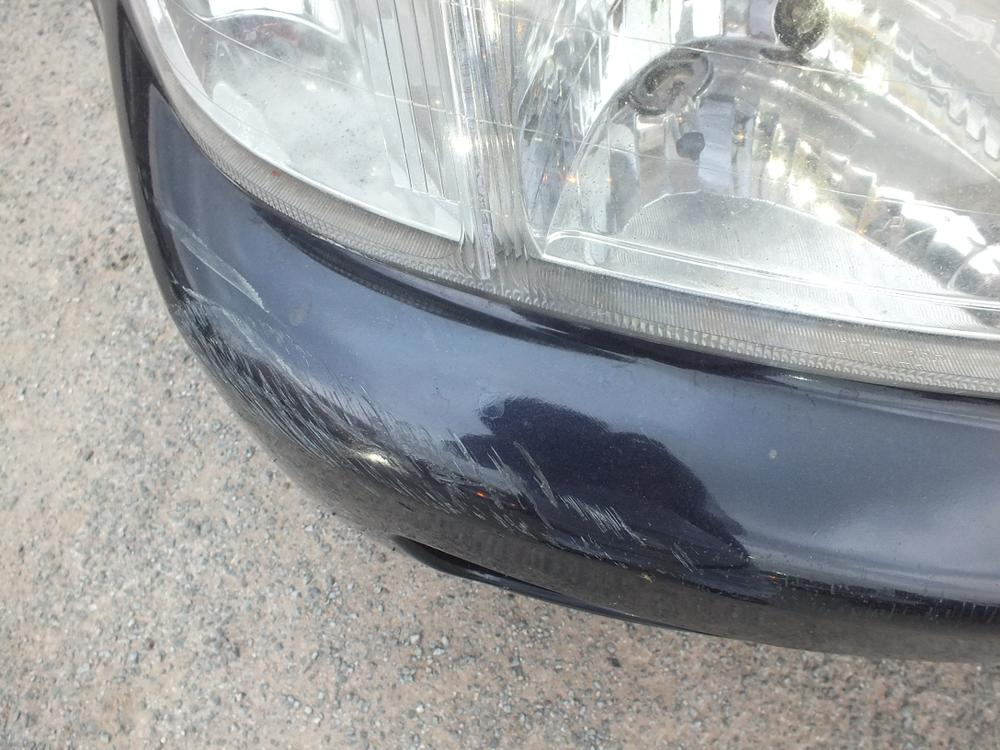scratch: (147, 194, 778, 592)
